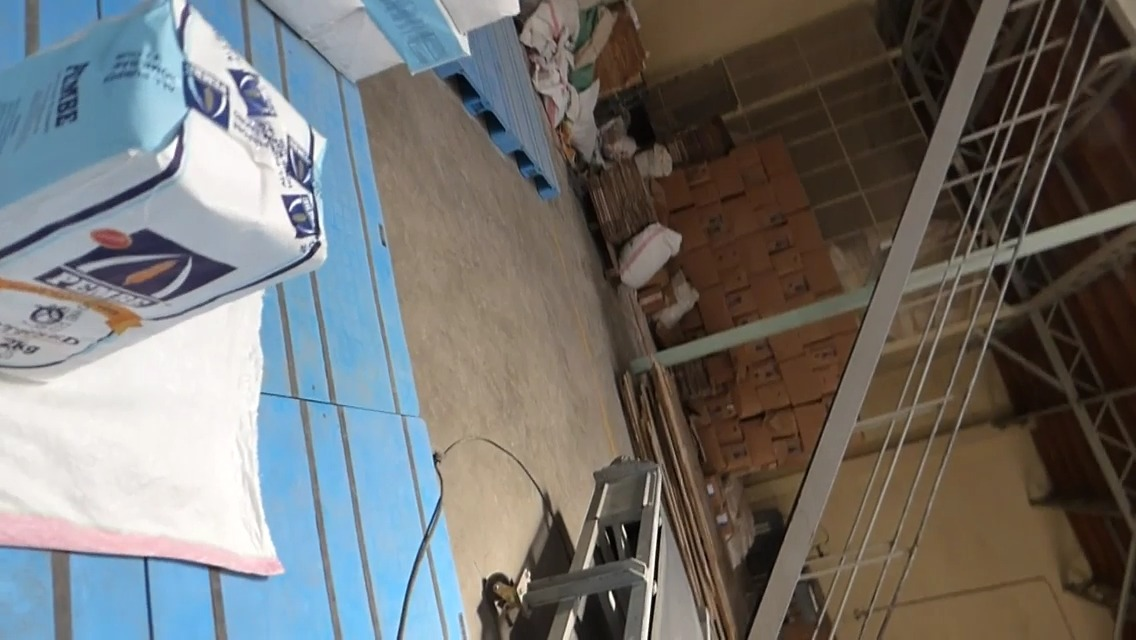wheat_flour_blue_label: (13, 3, 319, 366)
